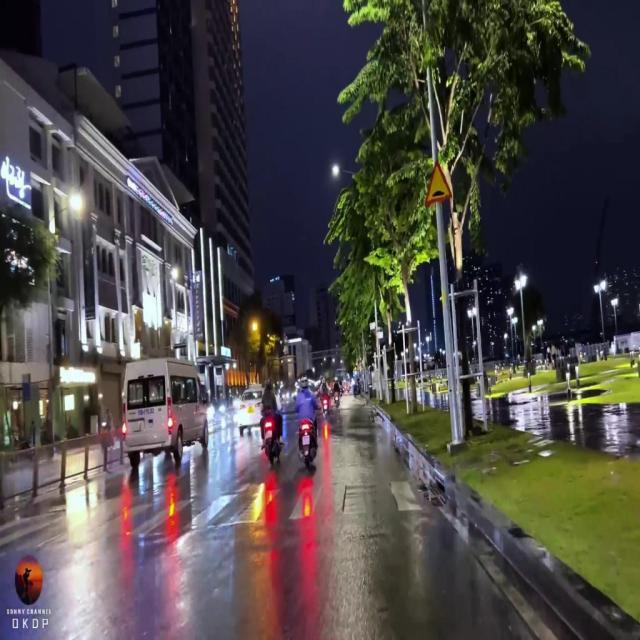221-duong-go-ghe: (423, 162, 453, 205)
